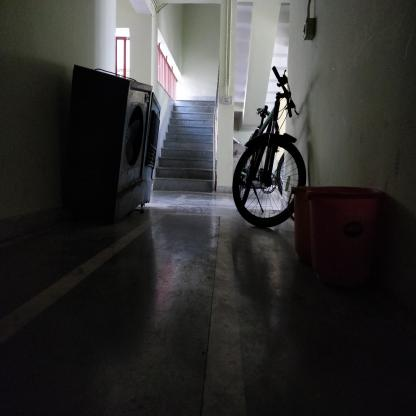stairs: (177, 99, 212, 195)
